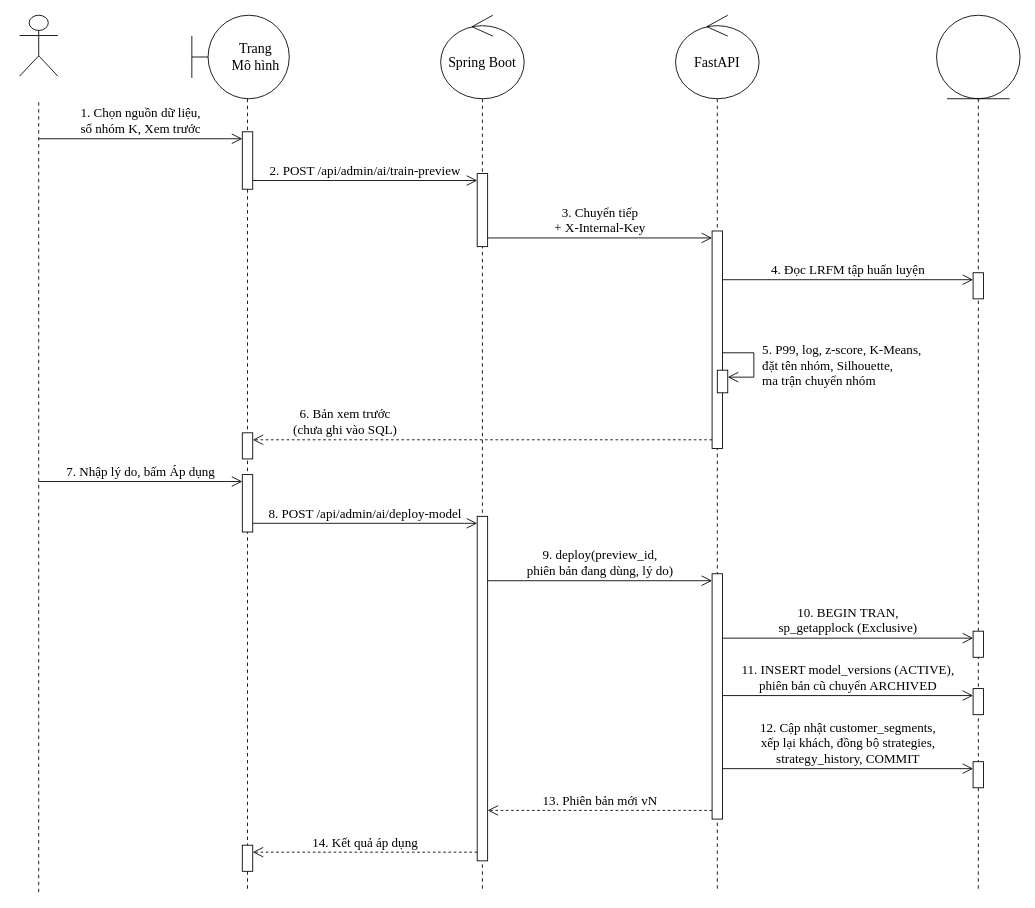
This 1035x908 diagram has some shape labels left out. Each missing label, with the centre of its shape:
"Quản lý" goes at (38,45).
"SQL Server" goes at (978,56).
